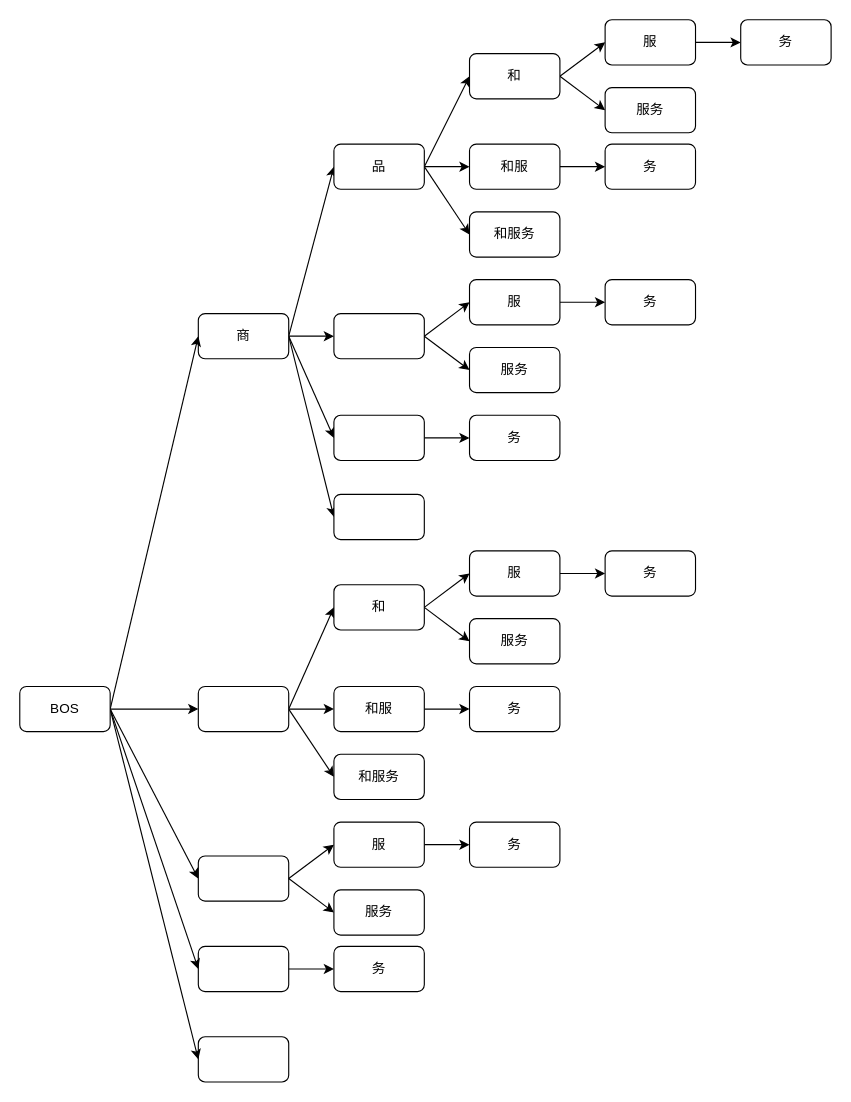
The diagram is 851 pixels wide and 1102 high, and some of its shapes have lost their labels. Here are the shapes that lost their labels. From the top down, the box of each, then its label:
(333, 312, 424, 359): 品和
(333, 414, 424, 460): 品和服
(333, 493, 424, 540): 品和服务
(197, 685, 289, 732): 商品
(197, 855, 289, 901): 商品和
(197, 945, 289, 992): 商品和服
(197, 1036, 289, 1082): 商品和服务
